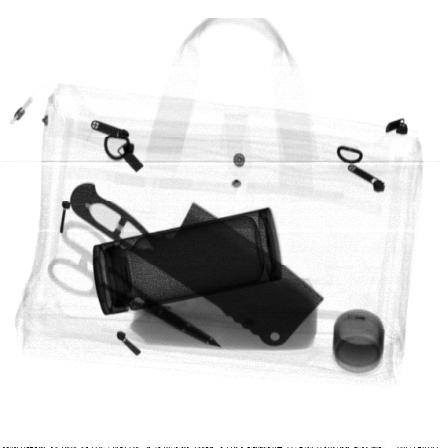Knife: (70, 183, 324, 347)
Scissors: (47, 218, 219, 346)
